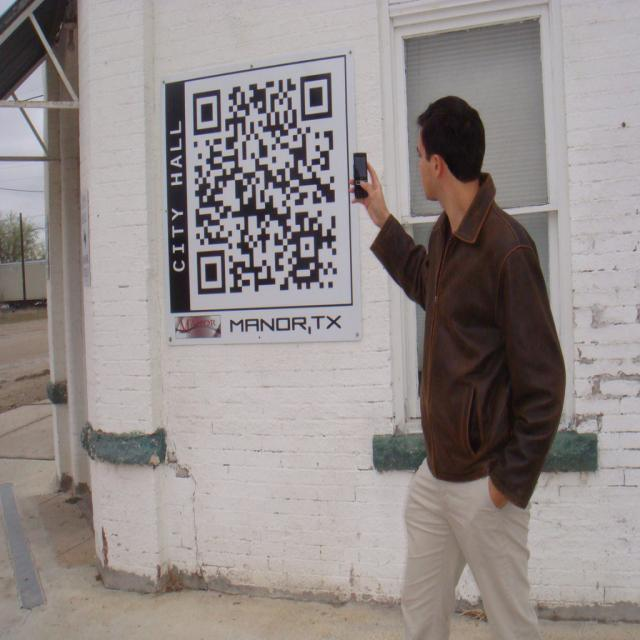qr-code: (193, 73, 337, 294)
